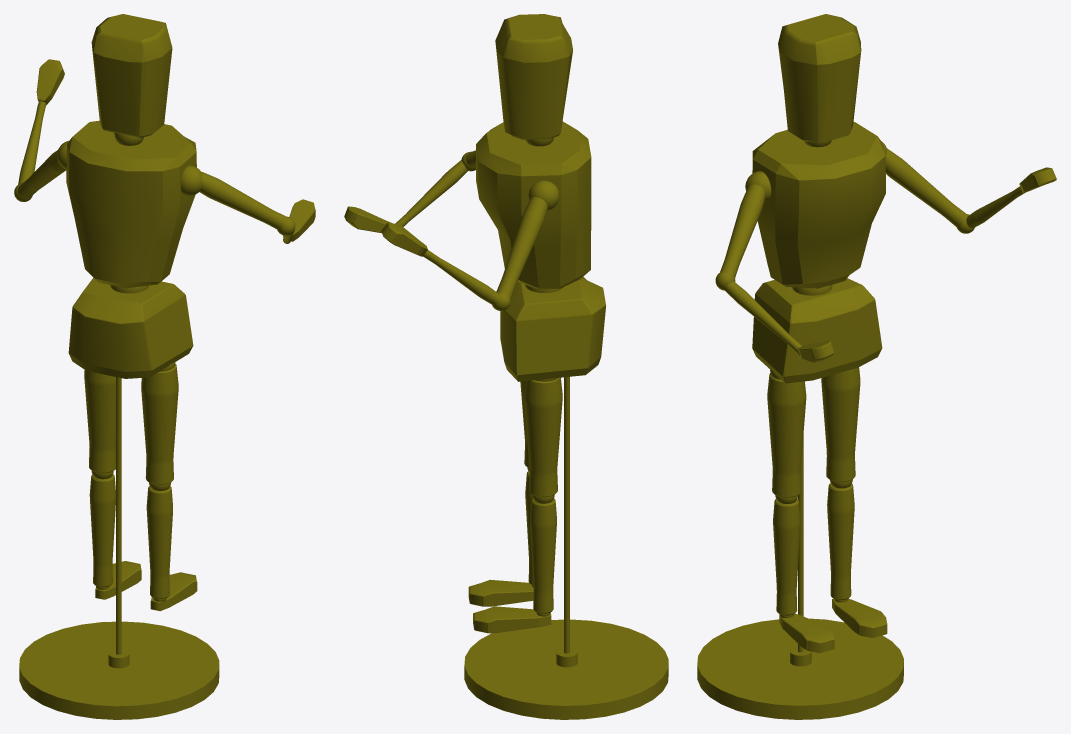
The model's file is mannequin.obj.
3 renders of one model, left to right at view 1: azimuth 30°, elevation 25°; view 2: azimuth 150°, elevation 25°; view 3: azimuth 270°, elevation 25°, orthographic. The views are drawn at different scales.
Visible parts, largest first — view 1: pSphere36; view 2: pSphere36; view 3: pSphere36.
Part boxes in pixels (<box>): pSphere36: <box>14,14,315,719</box>; pSphere36: <box>344,14,668,719</box>; pSphere36: <box>697,14,1056,719</box>.
Bounding box in the file's own units: 0.9733 × 2.02 × 1.
